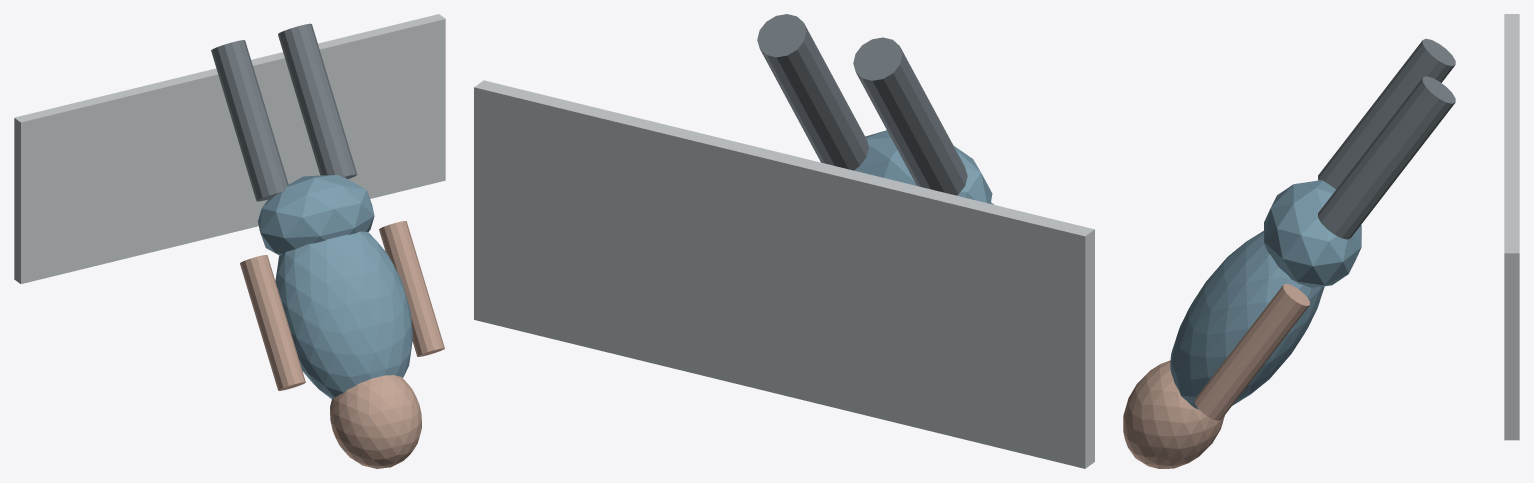
File: semi-seated-medium.glb
The picture shows the model from 3 angles, left to right: view 1: azimuth 30°, elevation 25°; view 2: azimuth 150°, elevation 25°; view 3: azimuth 270°, elevation 25°; orthographic projection. The views are drawn at different scales.
Visible parts, largest first — view 1: reference_surface, torso, head, pelvis, left_leg, right_leg, left_arm, right_arm; view 2: reference_surface, left_leg, right_leg, pelvis; view 3: torso, right_leg, pelvis, reference_surface, head, right_arm, left_leg.
Boxes of the visible parts, <box> form: reference_surface: <box>14,14,445,283</box>; torso: <box>275,231,412,398</box>; head: <box>330,375,421,468</box>; pelvis: <box>258,175,374,255</box>; left_leg: <box>211,40,288,201</box>; right_leg: <box>278,23,357,178</box>; left_arm: <box>240,255,305,390</box>; right_arm: <box>379,221,444,356</box>; reference_surface: <box>474,80,1094,468</box>; left_leg: <box>853,37,967,195</box>; right_leg: <box>757,14,868,170</box>; pelvis: <box>854,130,992,203</box>; torso: <box>1170,231,1324,409</box>; right_leg: <box>1318,76,1455,239</box>; pelvis: <box>1264,180,1361,287</box>; reference_surface: <box>1504,14,1519,440</box>; head: <box>1123,360,1224,468</box>; right_arm: <box>1194,284,1309,420</box>; left_leg: <box>1318,38,1455,189</box>.
Bounding box in the file's own units: 4.4 × 3.46 × 3.08.
